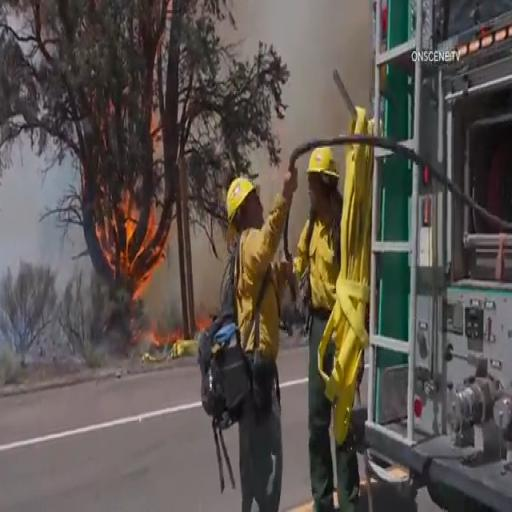fire: (88, 163, 163, 307)
smoke: (290, 14, 370, 60), (9, 188, 52, 256)
